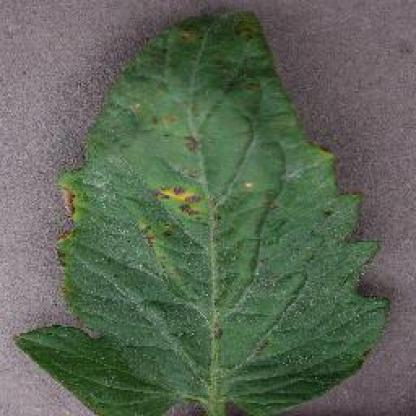bad leaf: (157, 108, 230, 230), (178, 9, 260, 39), (60, 176, 84, 261)
